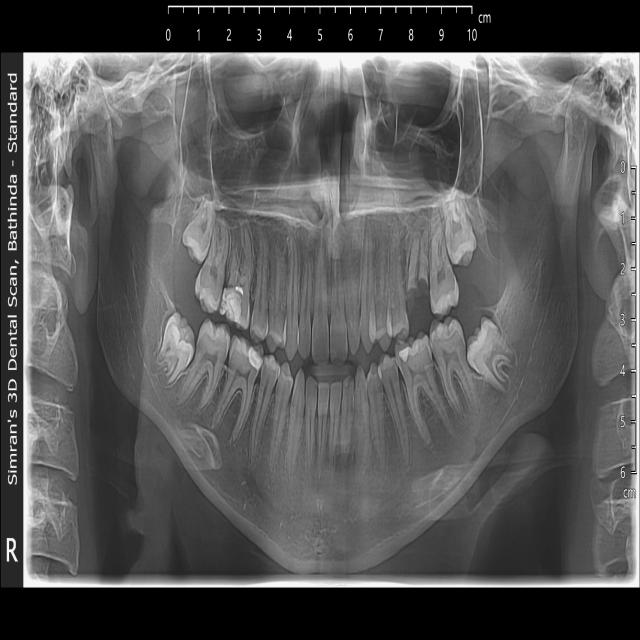Filling: (220, 290, 242, 326), (248, 346, 265, 370), (398, 346, 409, 366)
Root Piece: (405, 230, 430, 296)
impacted tooth: (468, 317, 517, 394), (156, 314, 196, 382), (443, 192, 477, 264), (183, 199, 216, 263)
